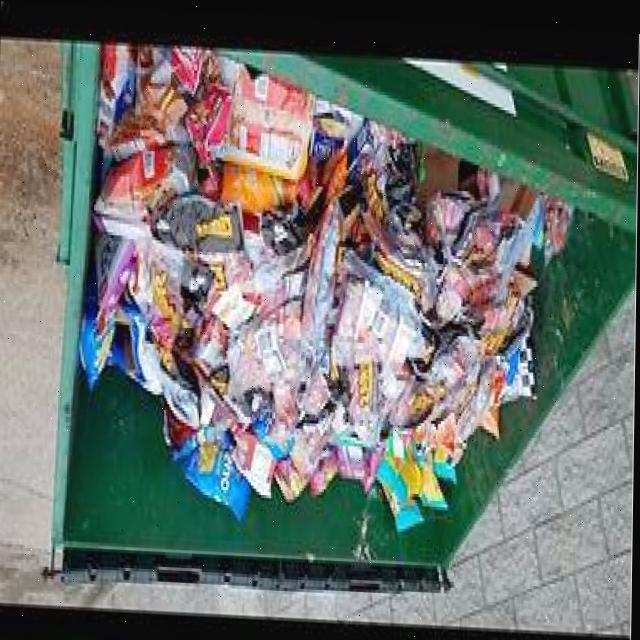Garbage: (53, 43, 572, 584)
Plastic_wraper: (196, 55, 311, 176), (121, 300, 213, 425), (175, 427, 251, 518), (102, 144, 194, 206), (378, 452, 424, 527)
